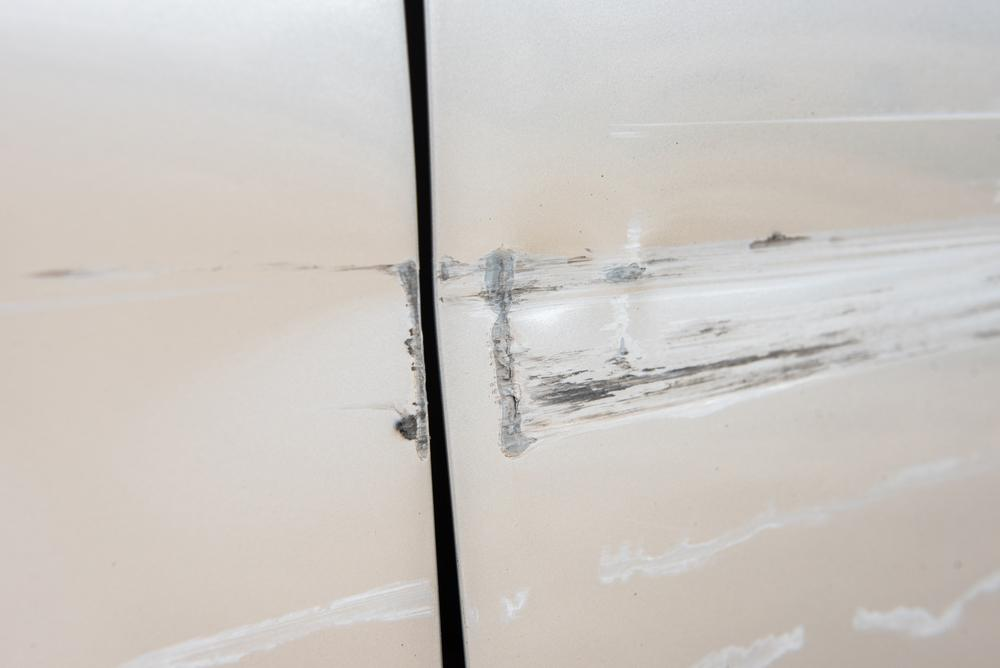scratch: (439, 197, 1000, 480), (487, 440, 1000, 629), (10, 253, 435, 462), (668, 564, 1000, 668), (102, 572, 440, 668)
